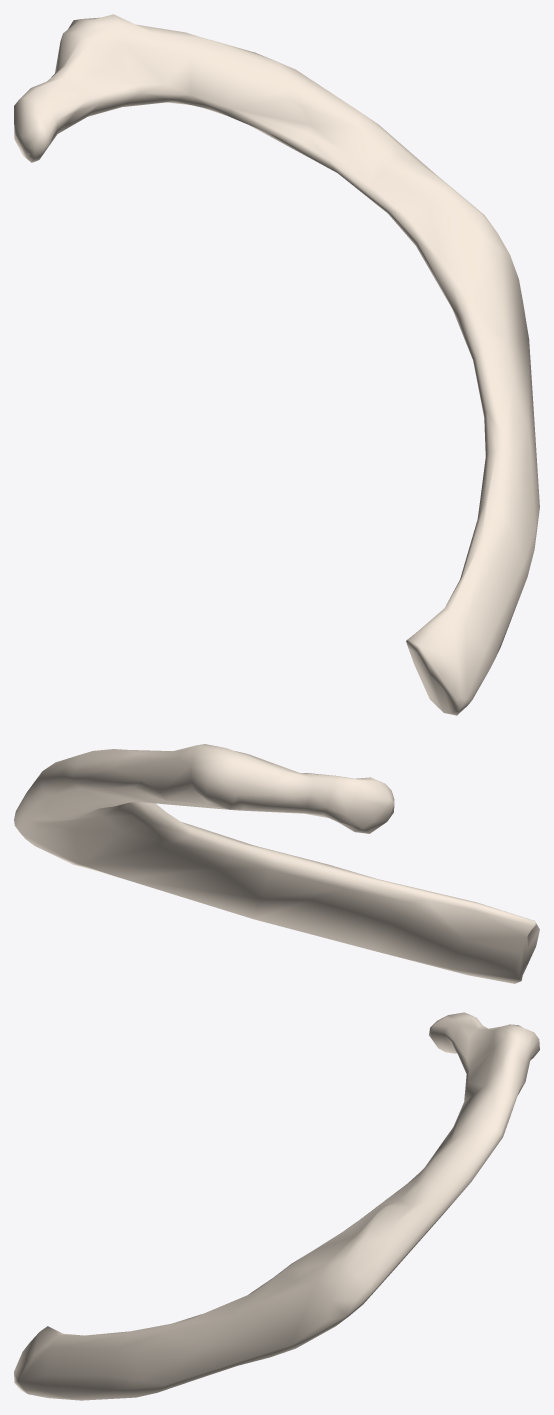
File: left_rib_2.glb
3 views of the same model, one above another, from view 1: azimuth 30°, elevation 25°; view 2: azimuth 150°, elevation 25°; view 3: azimuth 270°, elevation 25° (orthographic). The views are drawn at different scales.
Parts seen in each view (by area): view 1: Rib (2nd).r; view 2: Rib (2nd).r; view 3: Rib (2nd).r.
Boxes of the visible parts, bbox=[...] form: Rib (2nd).r: bbox=[14, 14, 539, 715]; Rib (2nd).r: bbox=[14, 744, 539, 983]; Rib (2nd).r: bbox=[14, 1012, 539, 1400].
Size of the model in its own units: 0.08 by 0.0845 by 0.1147.
